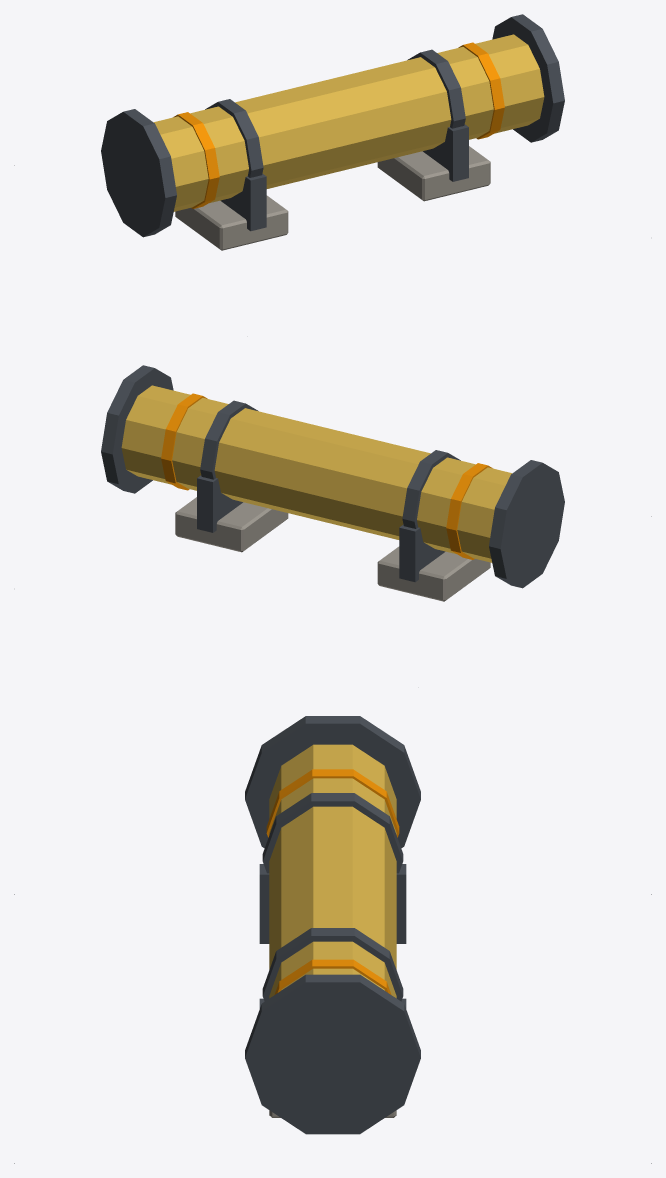
The model's file is tuyau_droit_t2.glb.
The picture shows the model from 3 angles, top to bottom: view 1: azimuth 30°, elevation 25°; view 2: azimuth 150°, elevation 25°; view 3: azimuth 270°, elevation 25°; orthographic projection. The views are drawn at different scales.
Parts seen in each view (by area): view 1: pieces_laiton.014, pieces_acier_sombre.044, pieces_beton.044, pieces_rive_t2.014; view 2: pieces_laiton.014, pieces_acier_sombre.044, pieces_beton.044, pieces_rive_t2.014; view 3: pieces_acier_sombre.044, pieces_laiton.014, pieces_rive_t2.014.
Part boxes in pixels (<box>): pieces_laiton.014: <box>154,34,544,211</box>; pieces_acier_sombre.044: <box>101,14,564,237</box>; pieces_beton.044: <box>175,146,490,250</box>; pieces_rive_t2.014: <box>173,42,504,208</box>; pieces_laiton.014: <box>121,385,511,562</box>; pieces_acier_sombre.044: <box>101,365,564,588</box>; pieces_beton.044: <box>175,497,490,601</box>; pieces_rive_t2.014: <box>161,393,492,559</box>; pieces_acier_sombre.044: <box>245,716,420,1134</box>; pieces_laiton.014: <box>269,744,396,998</box>; pieces_rive_t2.014: <box>266,769,399,994</box>.
Bounding box in the file's own units: 1 × 0.3112 × 1.
